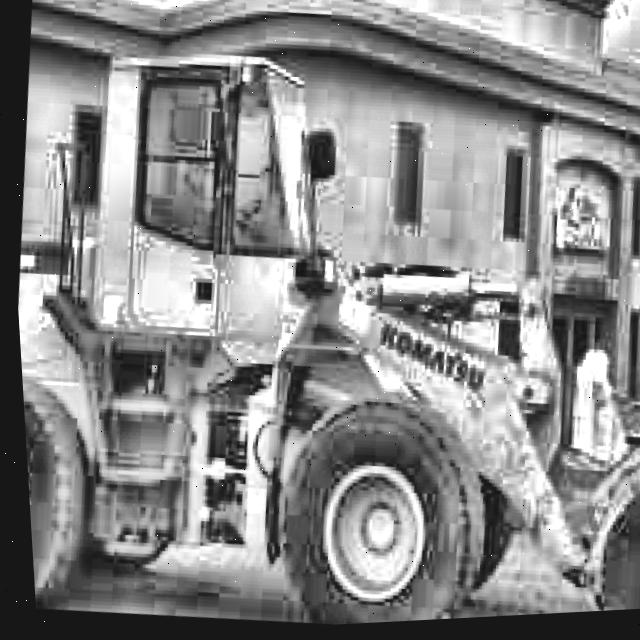buldozerpayloadergrader: (1, 2, 640, 640)
